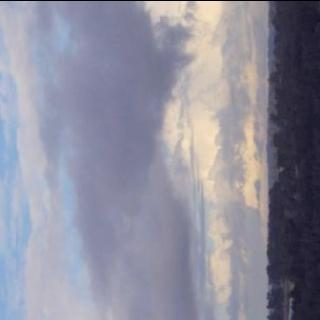Stratocumulus: (0, 0, 263, 320)
